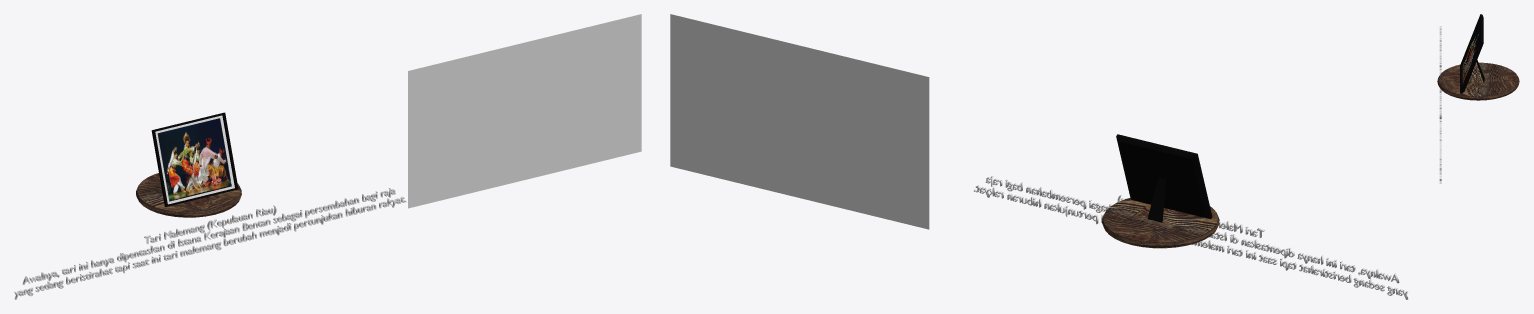
File: 8. Tari Malemang (Kepulauan Riau).fbx
3 renders of one model, left to right at view 1: azimuth 30°, elevation 25°; view 2: azimuth 150°, elevation 25°; view 3: azimuth 270°, elevation 25°, orthographic. The views are drawn at different scales.
Visible parts, largest first — view 1: Plane, Cube.040, Text; view 2: Plane, Cube.040, Text; view 3: Cube.040, Text.
Boxes of the visible parts, left/top/right/bottom form: Plane: left=408, top=14, right=641, bottom=208; Cube.040: left=136, top=112, right=241, bottom=217; Text: left=14, top=188, right=406, bottom=299; Plane: left=670, top=14, right=929, bottom=229; Cube.040: left=1102, top=134, right=1219, bottom=248; Text: left=974, top=175, right=1408, bottom=299; Cube.040: left=1437, top=14, right=1519, bottom=100; Text: left=1439, top=26, right=1441, bottom=183.
Bounding box in the file's own units: 8848 × 1800 × 1260.
Materials: 6 (3 with a texture image).
